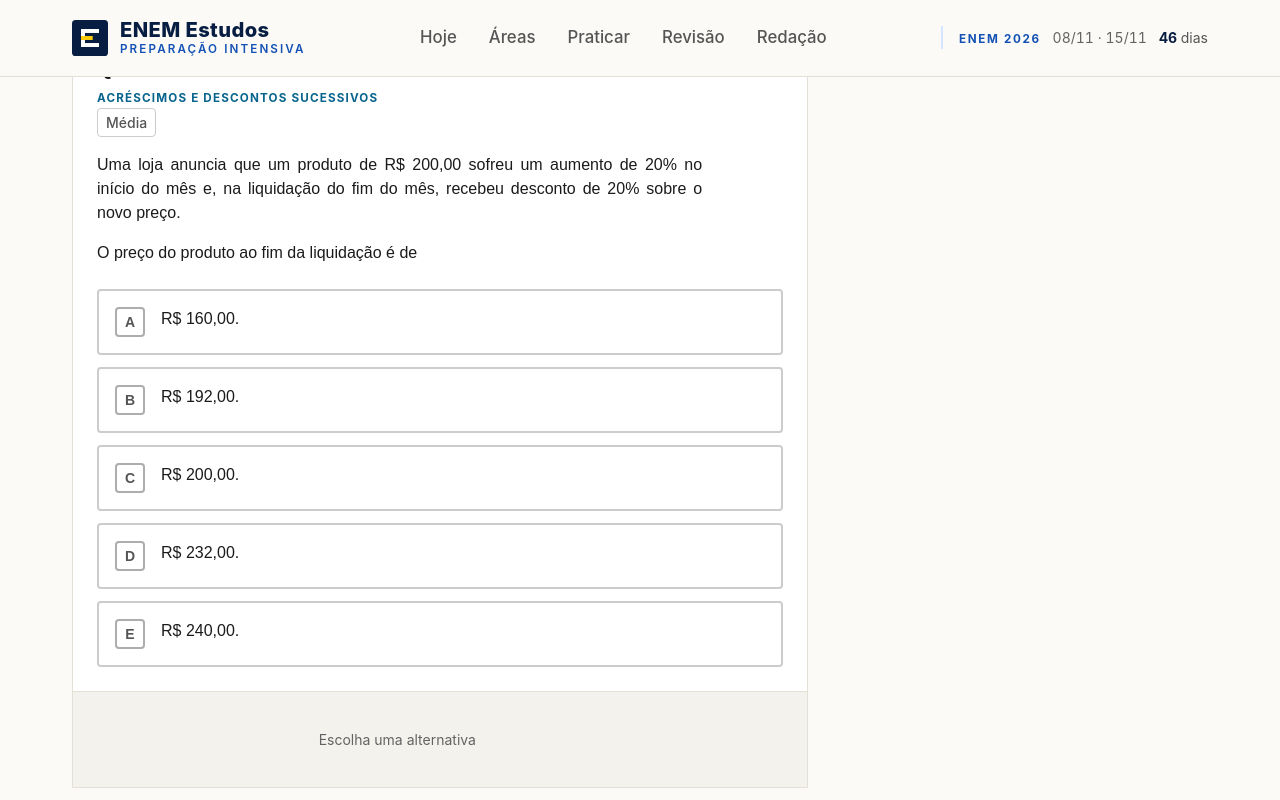
Test case: resolução de questão e correção › só oferece confirmar depois de escolher uma alternativa
(page scrolled)
Check: the text "Escolha uma alternativa" is shown, box [319,731,476,748]
Check: the button "Tenho certeza" is not shown
Click the button named "Alternativa B": (200, 396) [97,367,783,433]
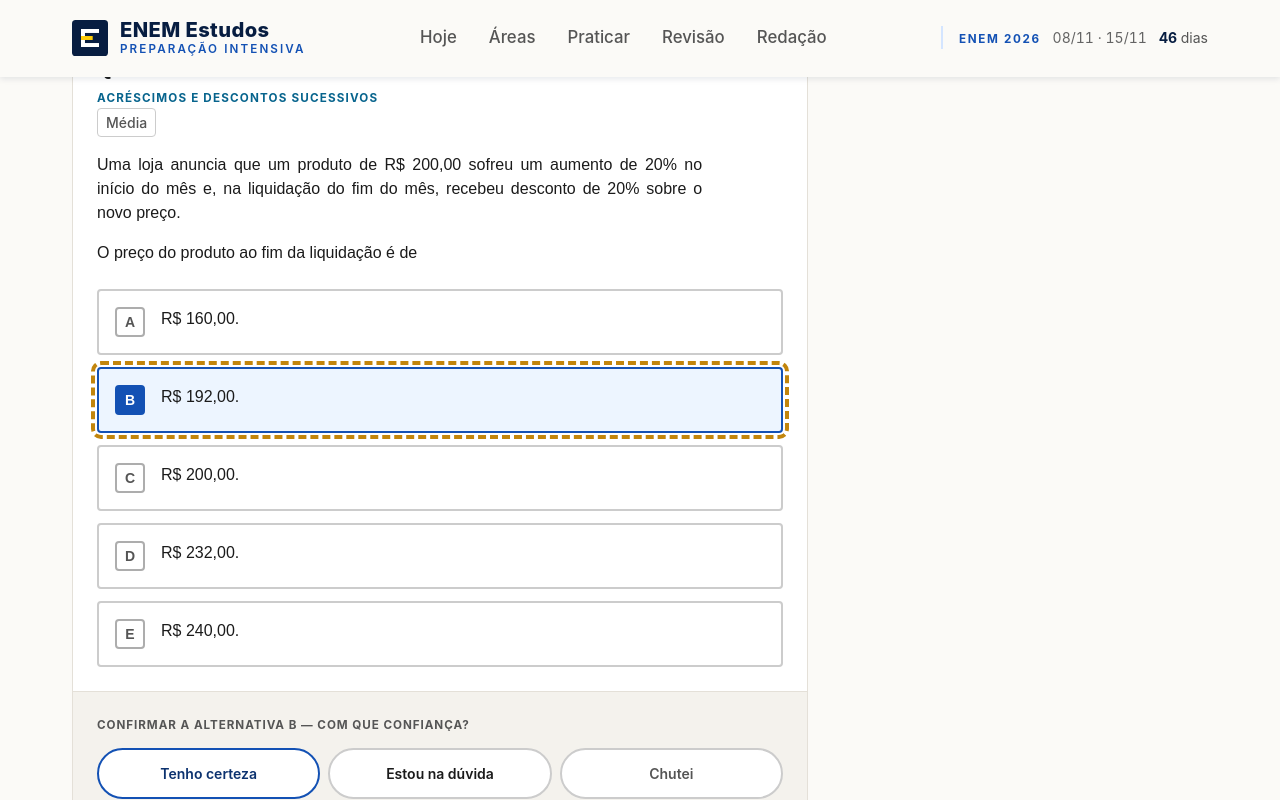
Check: the button "Tenho certeza" is shown, box [97,748,320,799]
Check: the button "Estou na dúvida" is shown, box [328,748,552,799]
Check: the button "Chutei" is shown, box [560,748,783,799]
